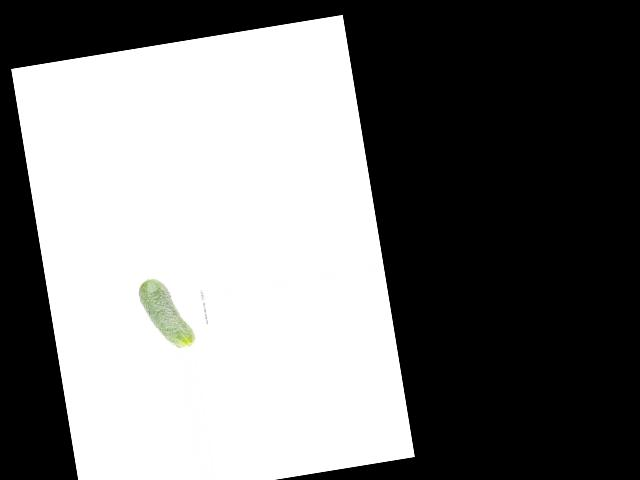cucumber: (136, 273, 196, 353)
